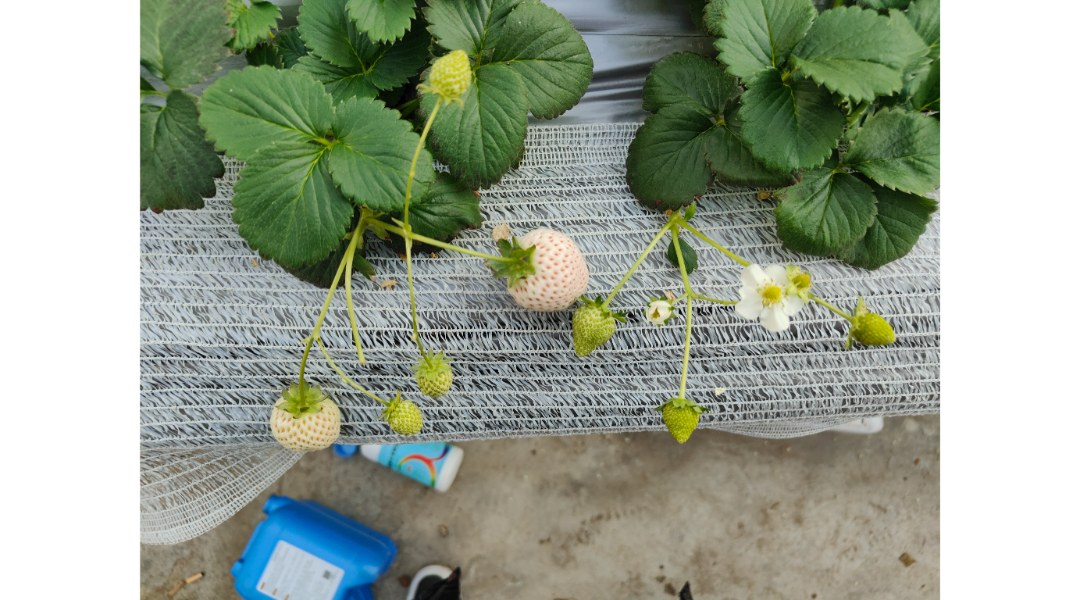berry: (498, 213, 590, 317), (264, 370, 344, 460), (843, 291, 901, 356), (419, 47, 478, 108), (566, 295, 615, 364), (656, 396, 705, 460), (379, 388, 422, 444), (410, 346, 452, 401)
flower: (722, 251, 812, 342), (637, 294, 682, 333)
strain: (291, 271, 336, 397), (604, 225, 668, 302), (395, 112, 440, 219), (398, 247, 421, 365), (691, 225, 752, 265), (429, 229, 485, 269), (347, 265, 367, 364), (680, 303, 696, 419)
